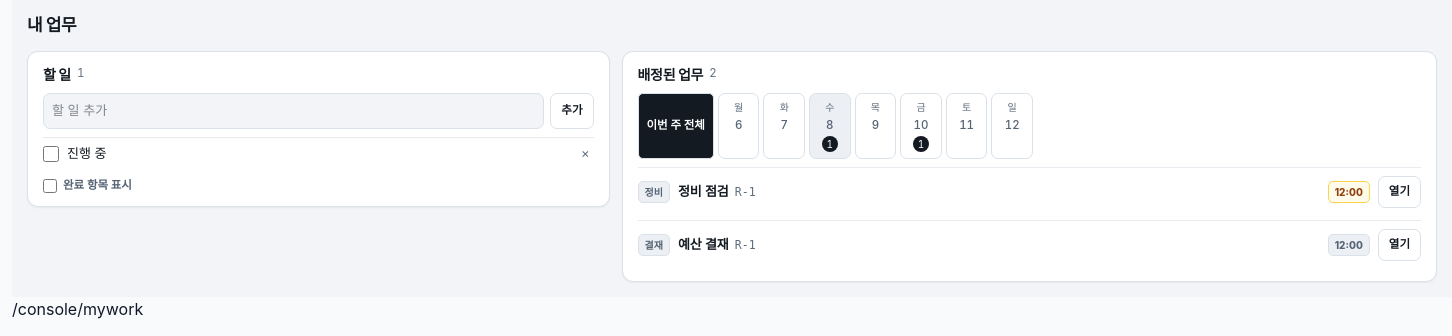
Test: MyWorkBody › keeps the current done-filter result when a deferred mutation fails
Click the checkbox named "진행 중 완료 토글".
click(51, 154)  # box [43,146,59,162]
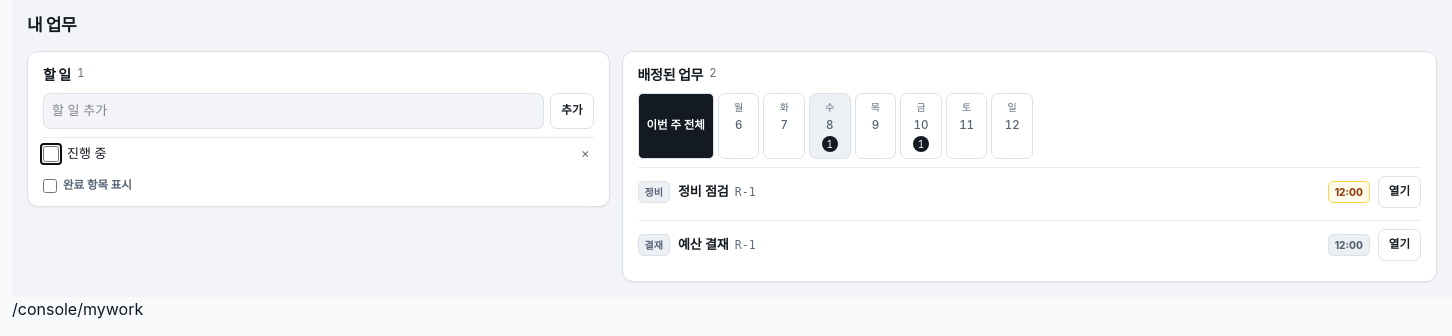
Click the checkbox labelled "완료 항목 표시".
click(50, 186)  # box [43,179,57,193]
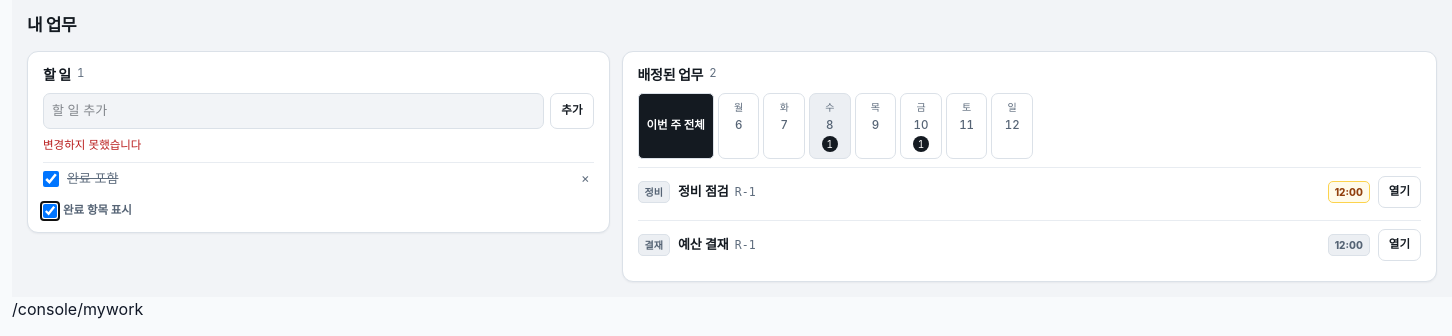
expect the message reads "변경하지 못했습니다": met, box [43,138,142,152]
expect the text "완료 포함" is shown: met, box [67,170,118,186]
